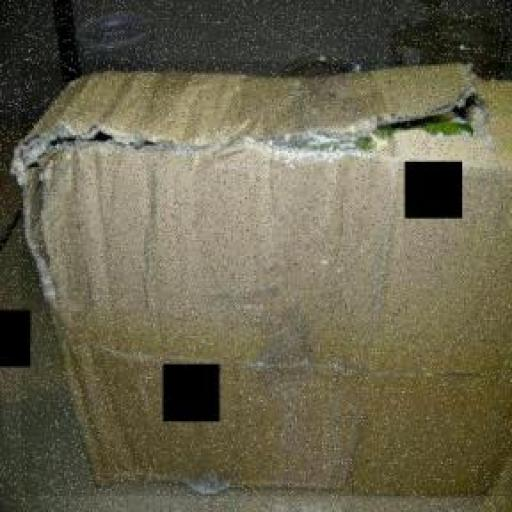box: (21, 61, 512, 497)
